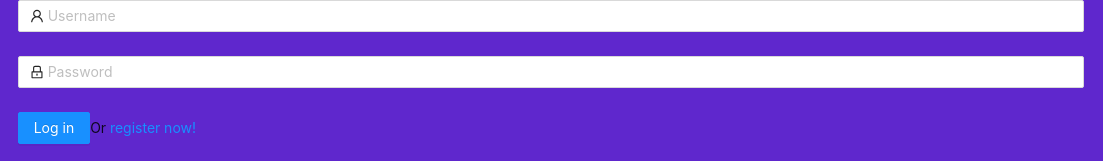
Test case: Login View › shoud show message that password must meet required length
This screenshot has width=1103, height=161.
In the password field with placeholder "Password": (560, 72) [48,61,1072,83], type "42"
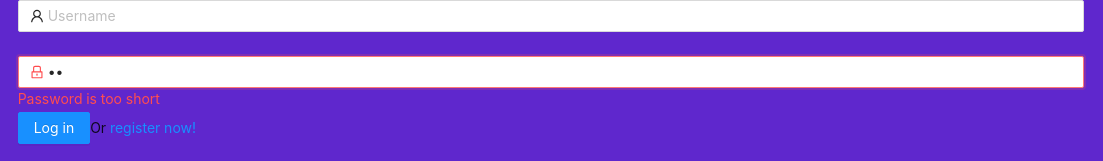
Now the text "Password is too short" is shown, box [18,90,160,107]
